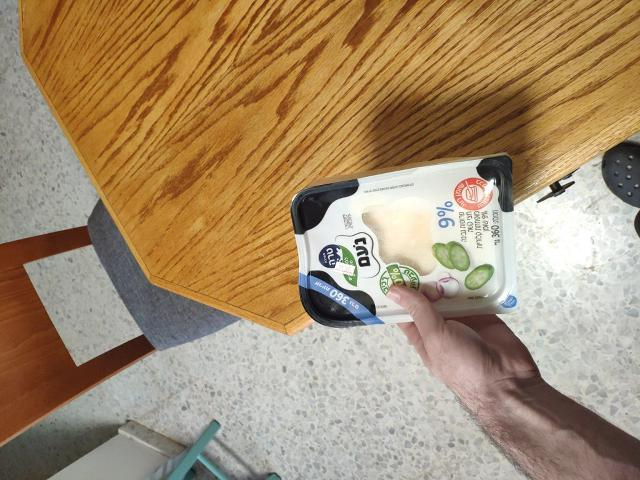cheese: (300, 168, 498, 325)
